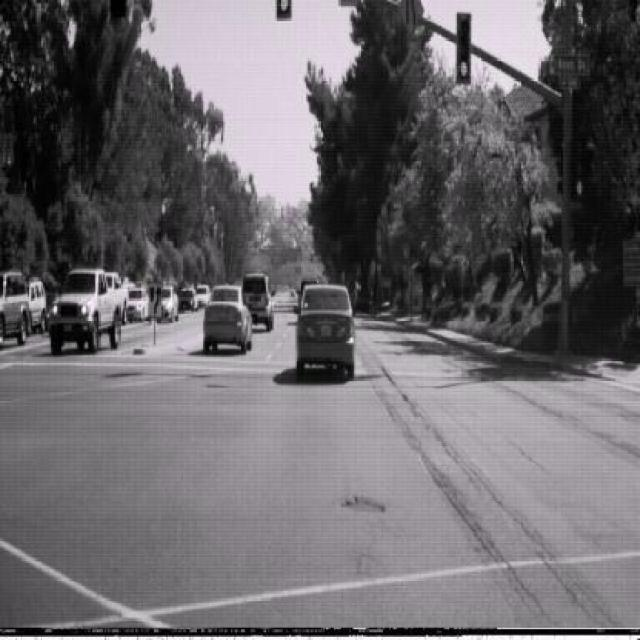keepRight: (148, 280, 163, 319)
